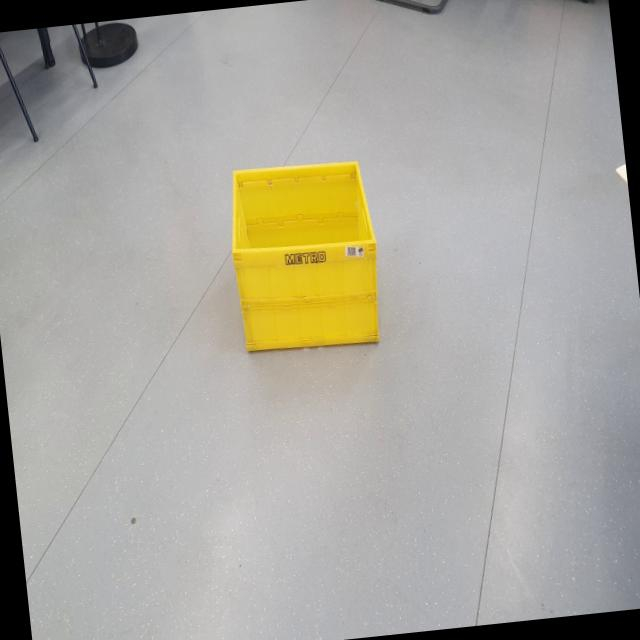box: (215, 145, 392, 368)
